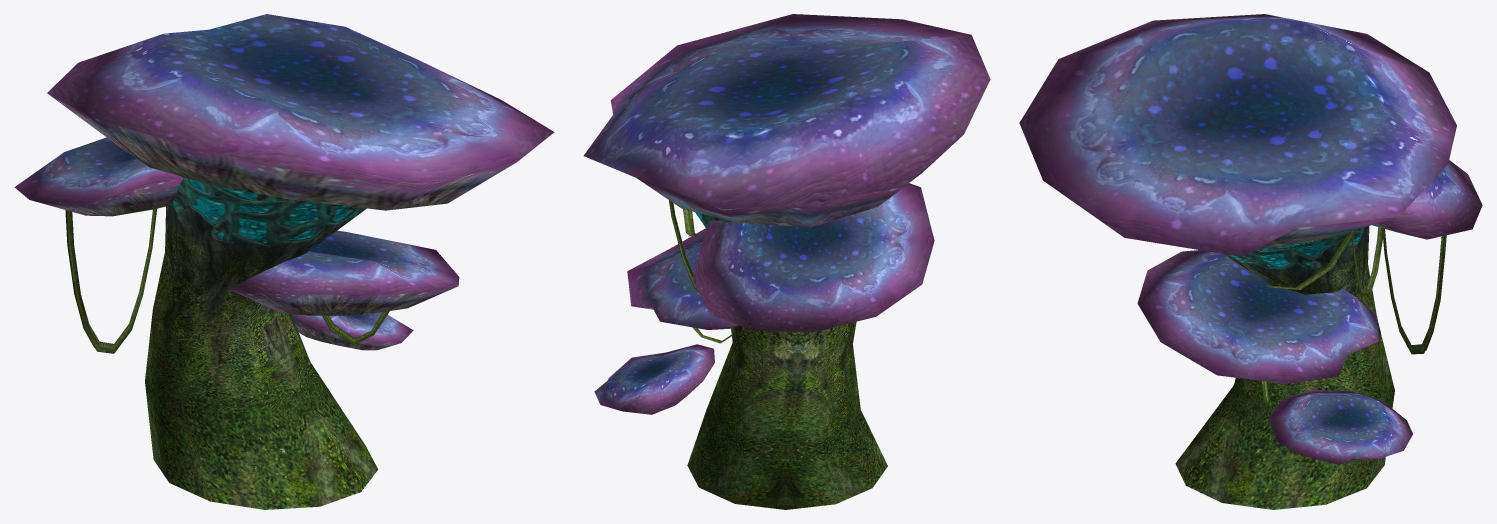
The model's file is mushroomb_03b.glb.
3 renders of one model, left to right at view 1: azimuth 30°, elevation 25°; view 2: azimuth 150°, elevation 25°; view 3: azimuth 270°, elevation 25°, orthographic. The views are drawn at different scales.
Parts seen in each view (by area): view 1: mushroomB_03b; view 2: mushroomB_03b; view 3: mushroomB_03b.
Part boxes in pixels (box(x1,y1,x2,y2)): mushroomB_03b: box(14, 14, 554, 509); mushroomB_03b: box(583, 14, 990, 509); mushroomB_03b: box(1019, 14, 1482, 509).
Bounding box in the file's own units: 8.26 × 8.43 × 8.82.
2 materials, 2 textured.
